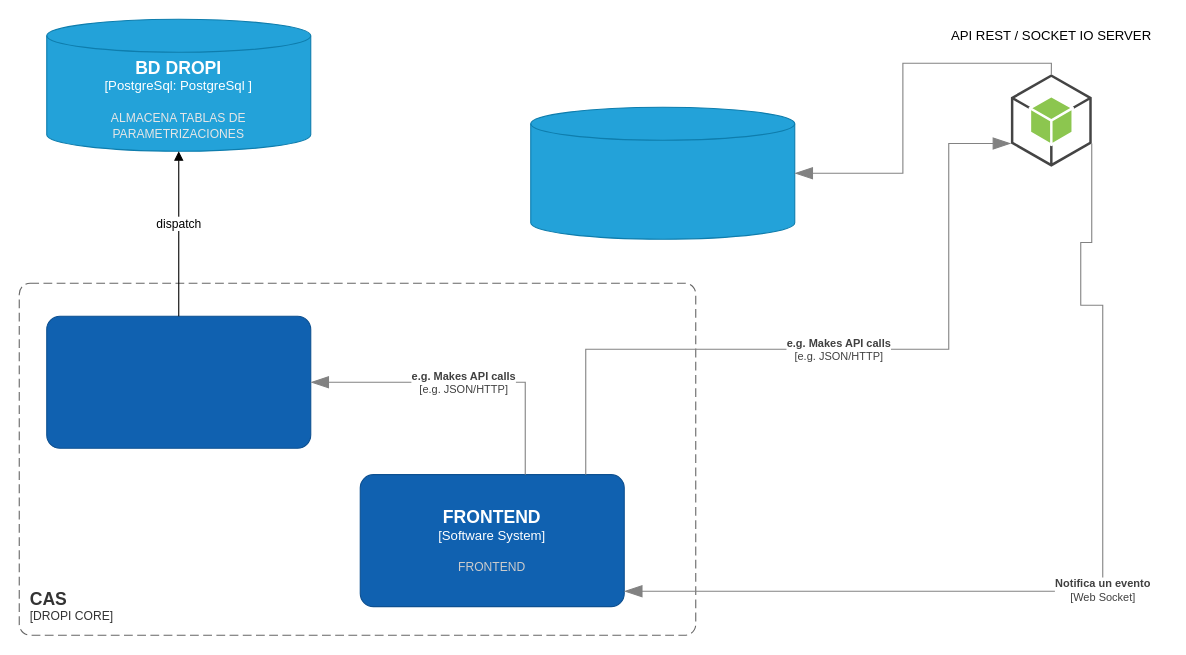
The diagram is 1186 pixels wide and 655 high, and some of its shapes have lost their labels. The centre of each missing label's shape, as x and y in pixels:
BACKEND [Software System] BACKEND: pixel 178 381
MONGO DB [MONGO DB: ATLAS] ALMACENA SISTEMA CONVERSACIONAL: pixel 662 172
